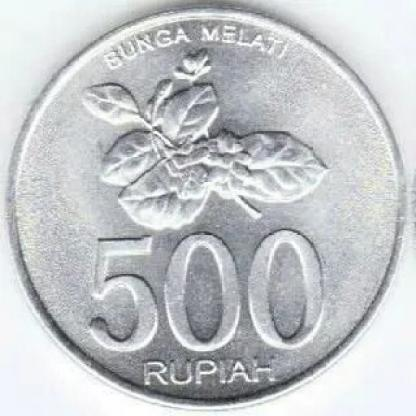coin_500_e2003: (5, 8, 408, 411)
